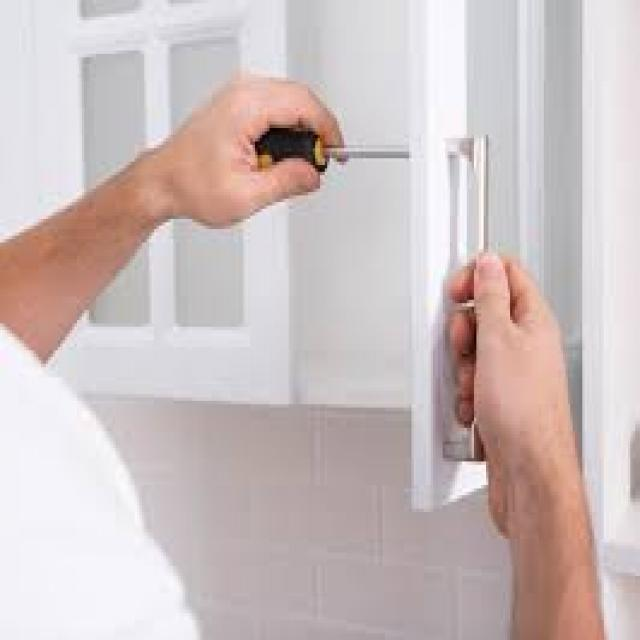screwdriver: (248, 121, 458, 179)
